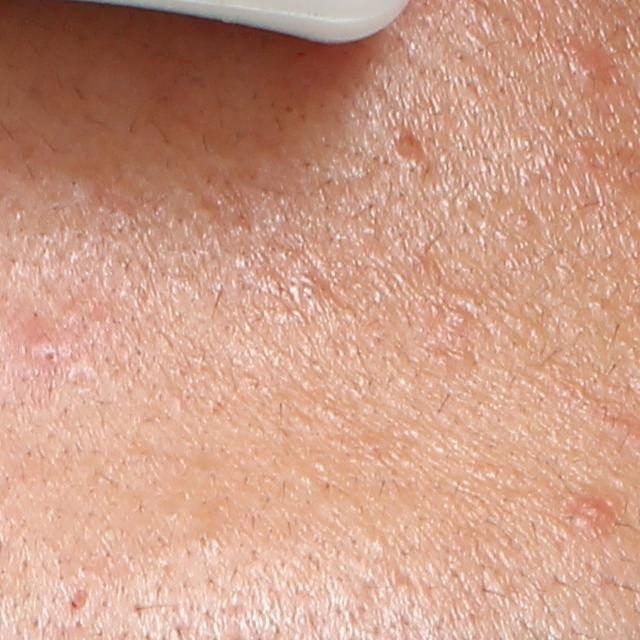comedo: (42, 345, 61, 364)
papule: (574, 49, 609, 83), (571, 500, 606, 530)
